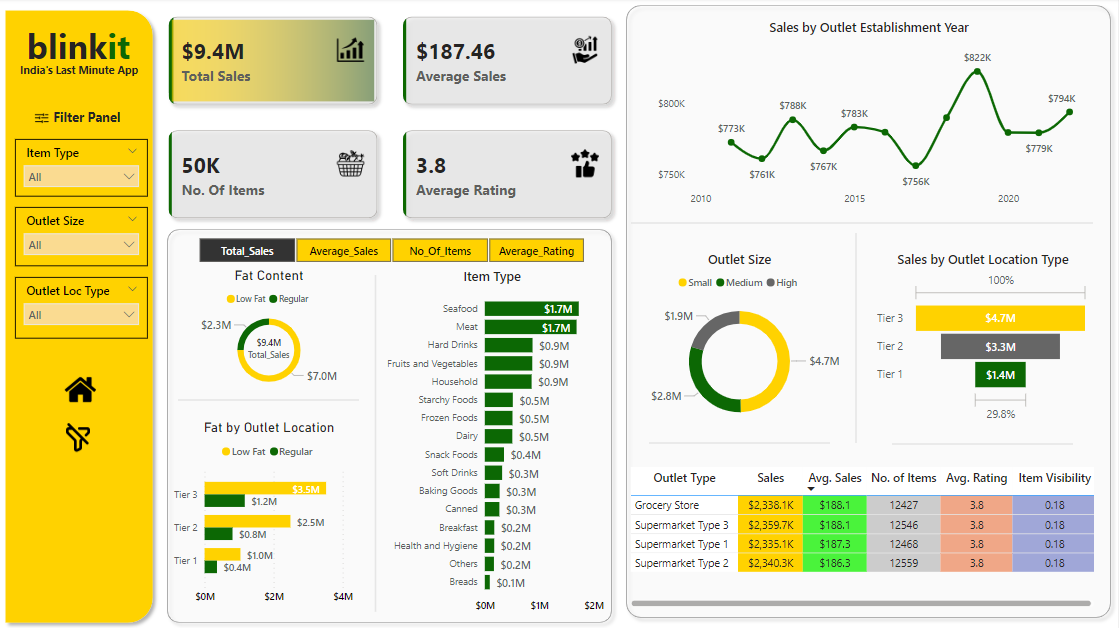

What the dashboard file says about the page in this screenshot:
{"tool":"powerbi","page":{"name":"Sales Report","canvas":[1400,800],"ordinal":0},"visuals":[{"type":"shape","box":[0,6.2,202.5,783.8],"z":0},{"type":"cardVisual","fields":{"Data":["Measures (2).Total_Sales","Measures (2).Average_Sales","Measures (2).No_Of_Items","Measures (2).Average_Rating"]},"box":[196.2,6.2,588.8,287.5],"z":1000},{"type":"shape","box":[202.5,280,573.8,510],"z":2000},{"type":"donutChart","title":"Fat Content","fields":{"Y":["Measures (2).Total_Sales"],"Category":["Blinkit_Data.Item_Fat _Content"]},"box":[222.5,336.4,232.5,159.6],"z":3000},{"type":"slicer","fields":{"Values":["Metrics.Metrics"]},"box":[226.2,293.8,530,42.5],"z":4000},{"type":"shape","box":[225,481.2,226.2,42.5],"z":5000},{"type":"clusteredBarChart","title":"Fat by Outlet Location","fields":{"Y":["Measures (2).Total_Sales"],"Category":["Blinkit_Data.Outlet_Location_Type"],"Series":["Blinkit_Data.Item_Fat _Content"]},"box":[211.2,526.2,255,240],"z":6000},{"type":"barChart","title":"Item Type","fields":{"Y":["Measures (2).Total_Sales"],"Category":["Blinkit_Data.Item_Type"]},"box":[472.5,336.2,290,441.2],"z":7000},{"type":"shape","box":[452.5,346.2,38.8,421.2],"z":8000},{"type":"shape","box":[776.2,0,623.8,783.8],"z":9000},{"type":"donutChart","title":"Outlet Size","fields":{"Category":["Blinkit_Data.Outlet_Size"],"Y":["Measures (2).Total_Sales"]},"box":[795,315,263.8,230],"z":10000},{"type":"lineChart","title":"Sales by Outlet Establishment Year","fields":{"Category":["Blinkit_Data.Outlet_Establishment_Year"],"Y":["Measures (2).Total_Sales"]},"box":[820,25,537.5,243.8],"z":11000},{"type":"funnel","title":"Sales by Outlet Location Type","fields":{"Category":["Blinkit_Data.Outlet_Location_Type"],"Y":["Measures (2).Total_Sales"]},"box":[1093.8,315,275,220],"z":12000},{"type":"tableEx","fields":{"Values":["Blinkit_Data.Outlet_Type","Measures (2).Total_Sales","Measures (2).Average_Sales","Measures (2).No_Of_Items","Measures (2).Average_Rating","Avg(Blinkit_Data.Item_Visibility)"]},"box":[785,581.2,590,185],"z":13000},{"type":"shape","box":[945,293.8,255,262.5],"z":14000},{"type":"shape","box":[813.8,501.2,226.2,110],"z":15000},{"type":"shape","box":[1117.5,502.5,226.2,110],"z":16000},{"type":"shape","box":[791.2,226.2,577.5,110],"z":17000},{"type":"slicer","fields":{"Values":["Blinkit_Data.Outlet_Location_Type"]},"box":[20.9,348.7,166.1,76.5],"z":18000},{"type":"textbox","box":[17.5,25,166.2,81.2],"z":19000},{"type":"textbox","box":[6.2,76.2,190,41.2],"z":20000},{"type":"slicer","fields":{"Values":["Blinkit_Data.Item_Type"]},"box":[20.9,176.5,166.1,72.2],"z":21000},{"type":"slicer","fields":{"Values":["Blinkit_Data.Outlet_Size"]},"box":[20.9,261.7,166.1,73.9],"z":22000},{"type":"textbox","box":[49.3,132.7,124.4,43.9],"z":23000},{"type":"image","box":[39.5,134.1,28.8,32.2],"z":24000},{"type":"image","box":[77.5,465,51.2,48.8],"z":25000},{"type":"image","box":[75,522.5,50,58.8],"z":26000},{"type":"actionButton","box":[65,523.8,68.8,53.8],"z":27000},{"type":"pageNavigator","box":[72.5,465,61.2,48.8],"z":28000},{"type":"cardVisual","fields":{"Data":["Measures (2).Total_Sales"]},"box":[286.8,398,104.6,81.5],"z":28001}]}

Visuals, with their boxes in screenshot pixels (x1, y1, x2, y2), scaled from the page's 1400x800 canvas onto the 1119x628 screenshot:
shape: box=[0, 5, 162, 620]
cardVisual - Measures (2).Total_Sales x Measures (2).Average_Sales: box=[157, 5, 627, 231]
shape: box=[162, 220, 620, 620]
"Fat Content" donutChart: box=[178, 264, 364, 389]
slicer - Metrics.Metrics: box=[181, 231, 604, 264]
shape: box=[180, 378, 361, 411]
"Fat by Outlet Location" clusteredBarChart: box=[169, 413, 373, 601]
"Item Type" barChart: box=[378, 264, 609, 610]
shape: box=[362, 272, 393, 602]
shape: box=[620, 0, 1118, 615]
"Outlet Size" donutChart: box=[635, 247, 846, 428]
"Sales by Outlet Establishment Year" lineChart: box=[655, 20, 1085, 211]
"Sales by Outlet Location Type" funnel: box=[874, 247, 1094, 420]
tableEx - Blinkit_Data.Outlet_Type x Measures (2).Total_Sales: box=[627, 456, 1099, 601]
shape: box=[755, 231, 959, 437]
shape: box=[650, 393, 831, 480]
shape: box=[893, 394, 1074, 481]
shape: box=[632, 178, 1094, 264]
slicer - Blinkit_Data.Outlet_Location_Type: box=[17, 274, 149, 334]
textbox: box=[14, 20, 147, 83]
textbox: box=[5, 60, 157, 92]
slicer - Blinkit_Data.Item_Type: box=[17, 139, 149, 195]
slicer - Blinkit_Data.Outlet_Size: box=[17, 205, 149, 263]
textbox: box=[39, 104, 139, 139]
image: box=[32, 105, 55, 131]
image: box=[62, 365, 103, 403]
image: box=[60, 410, 100, 456]
actionButton: box=[52, 411, 107, 453]
pageNavigator: box=[58, 365, 107, 403]
cardVisual - Measures (2).Total_Sales: box=[229, 312, 313, 376]
